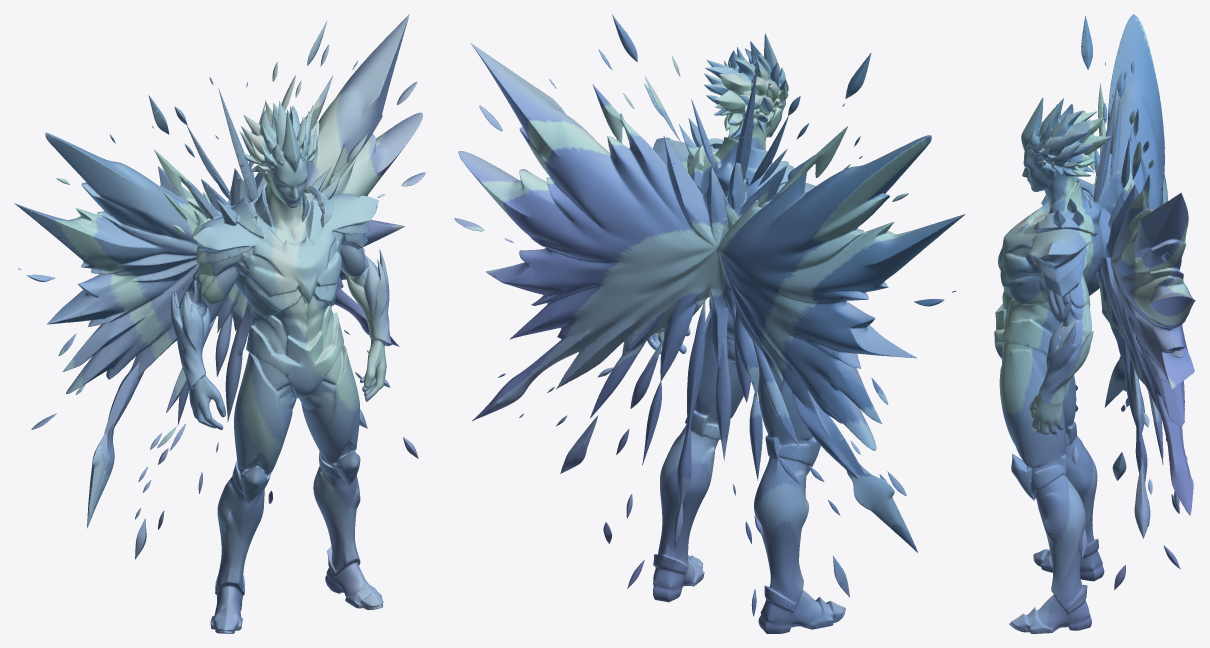
File: player-level-07.glb
3 renders of one model, left to right at view 1: azimuth 30°, elevation 25°; view 2: azimuth 150°, elevation 25°; view 3: azimuth 270°, elevation 25°, orthographic. The views are drawn at different scales.
Visible parts, largest first — view 1: world; view 2: world; view 3: world.
Part boxes in pixels (bbox=[...]): world: bbox=[14, 14, 425, 633]; world: bbox=[454, 14, 965, 633]; world: bbox=[994, 14, 1195, 633].
Size of the model in its own units: 1.6 by 1.9 by 0.6588.
